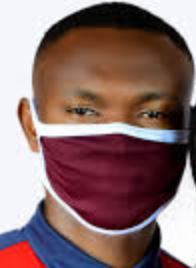with_facemask: (38, 123, 182, 230)
